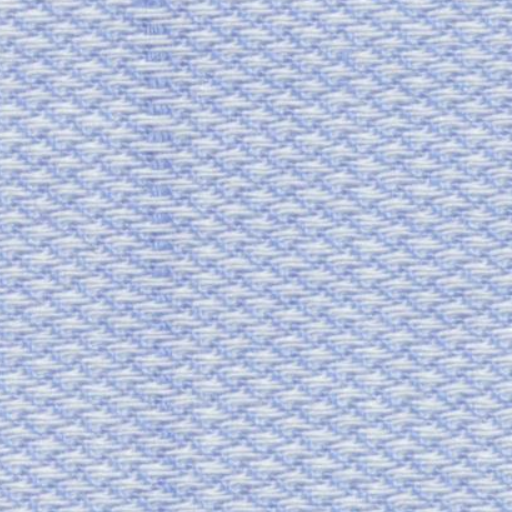TuoSha: (104, 20, 232, 502)
